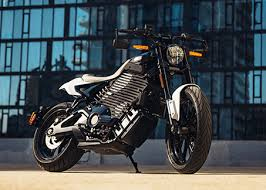motorcycle: (27, 24, 219, 175)
